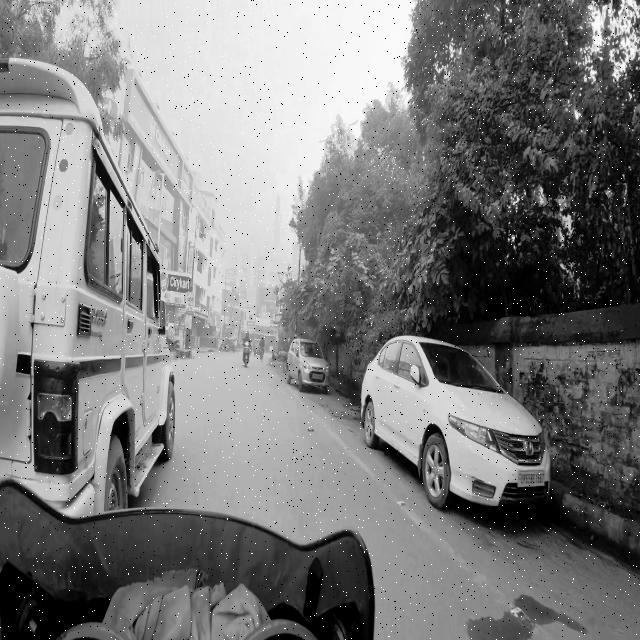Car: (0, 57, 192, 507), (357, 328, 582, 521), (286, 340, 334, 391)
